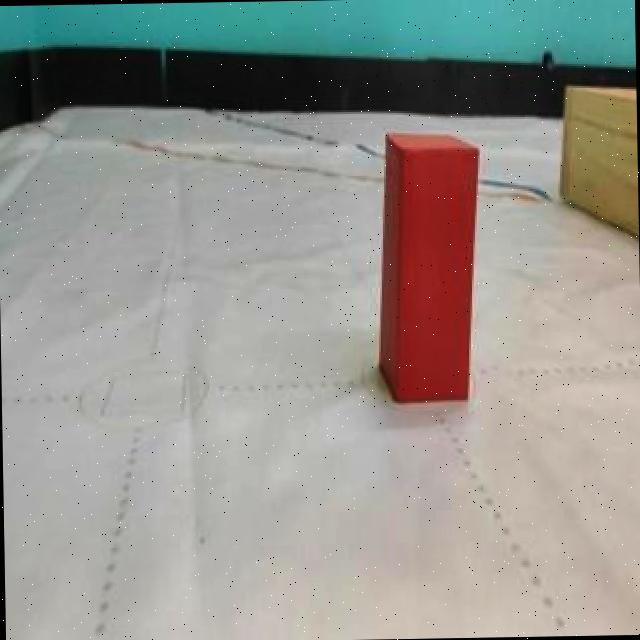redbox: (374, 128, 484, 406)
